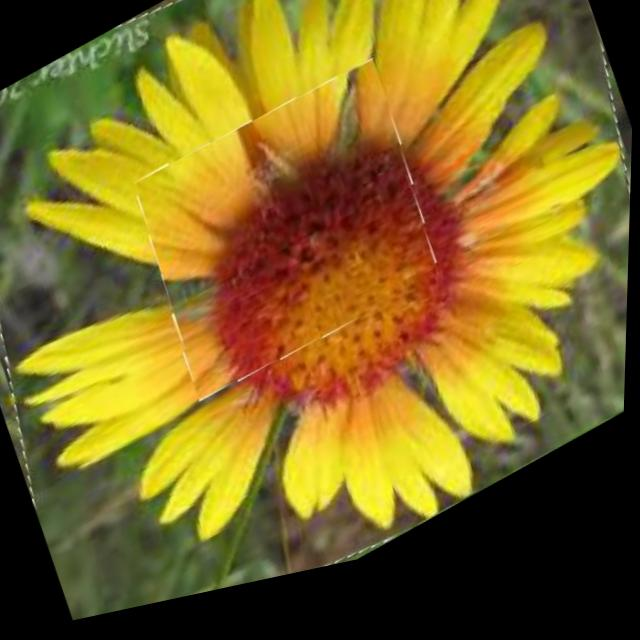Flower: (125, 55, 452, 428)
